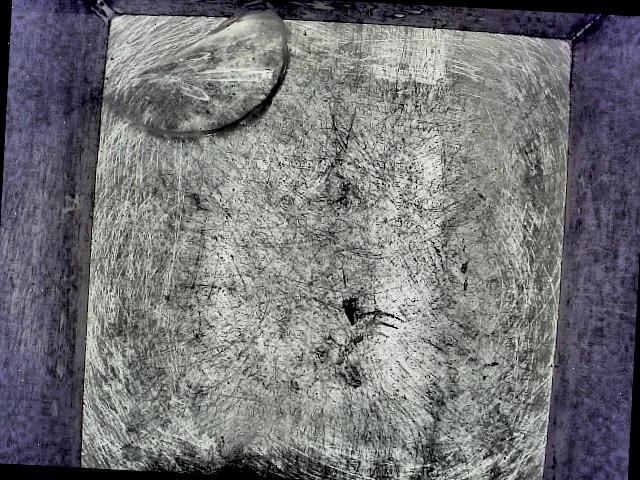Plastic: (103, 0, 293, 162)
